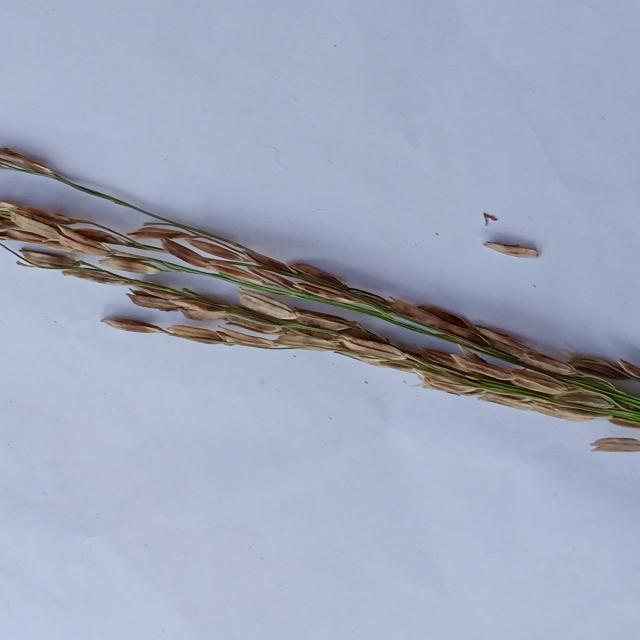Neck_Blast: (1, 197, 615, 420)
